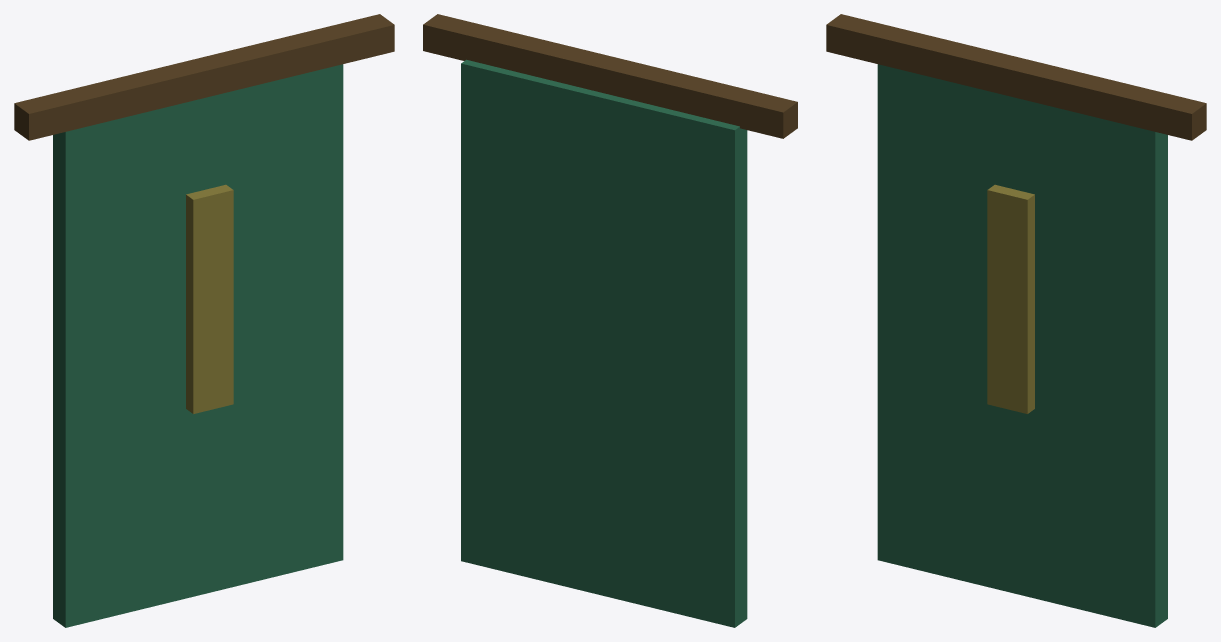
The model's file is banner.glb.
3 renders of one model, left to right at view 1: azimuth 30°, elevation 25°; view 2: azimuth 150°, elevation 25°; view 3: azimuth 330°, elevation 25°, orthographic.
Parts seen in each view (by area): view 1: banner; view 2: banner; view 3: banner.
Boxes of the visible parts, box(x1,y1,x2,y2) form: banner: box(14, 14, 394, 627); banner: box(423, 14, 797, 627); banner: box(826, 14, 1206, 627).
Size of the model in its own units: 1 by 1.39 by 0.1025.
